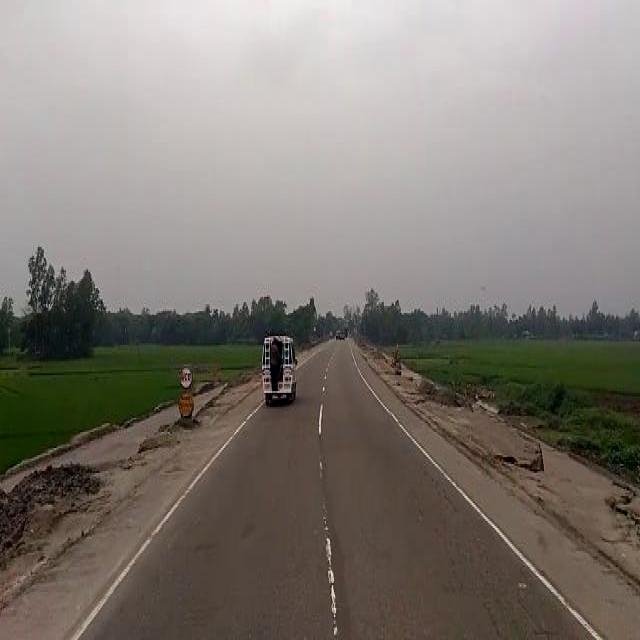TRUCK: (262, 336, 297, 404)
